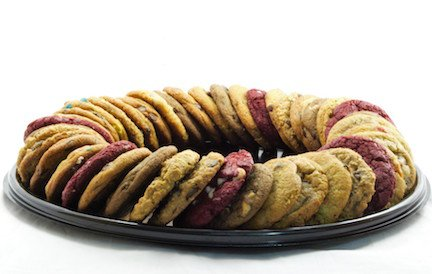burger: (104, 145, 195, 222), (173, 151, 254, 229), (144, 152, 225, 226), (60, 140, 140, 211), (78, 147, 153, 213), (43, 142, 107, 203), (227, 84, 283, 151)
